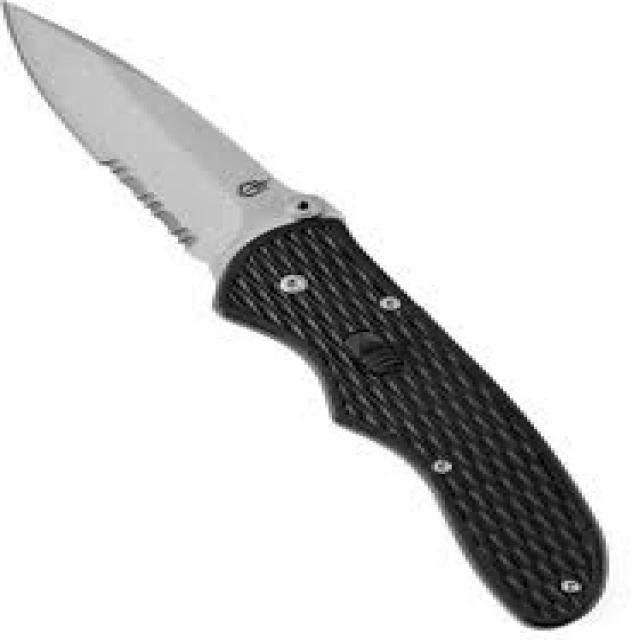knives: (0, 0, 613, 633)
